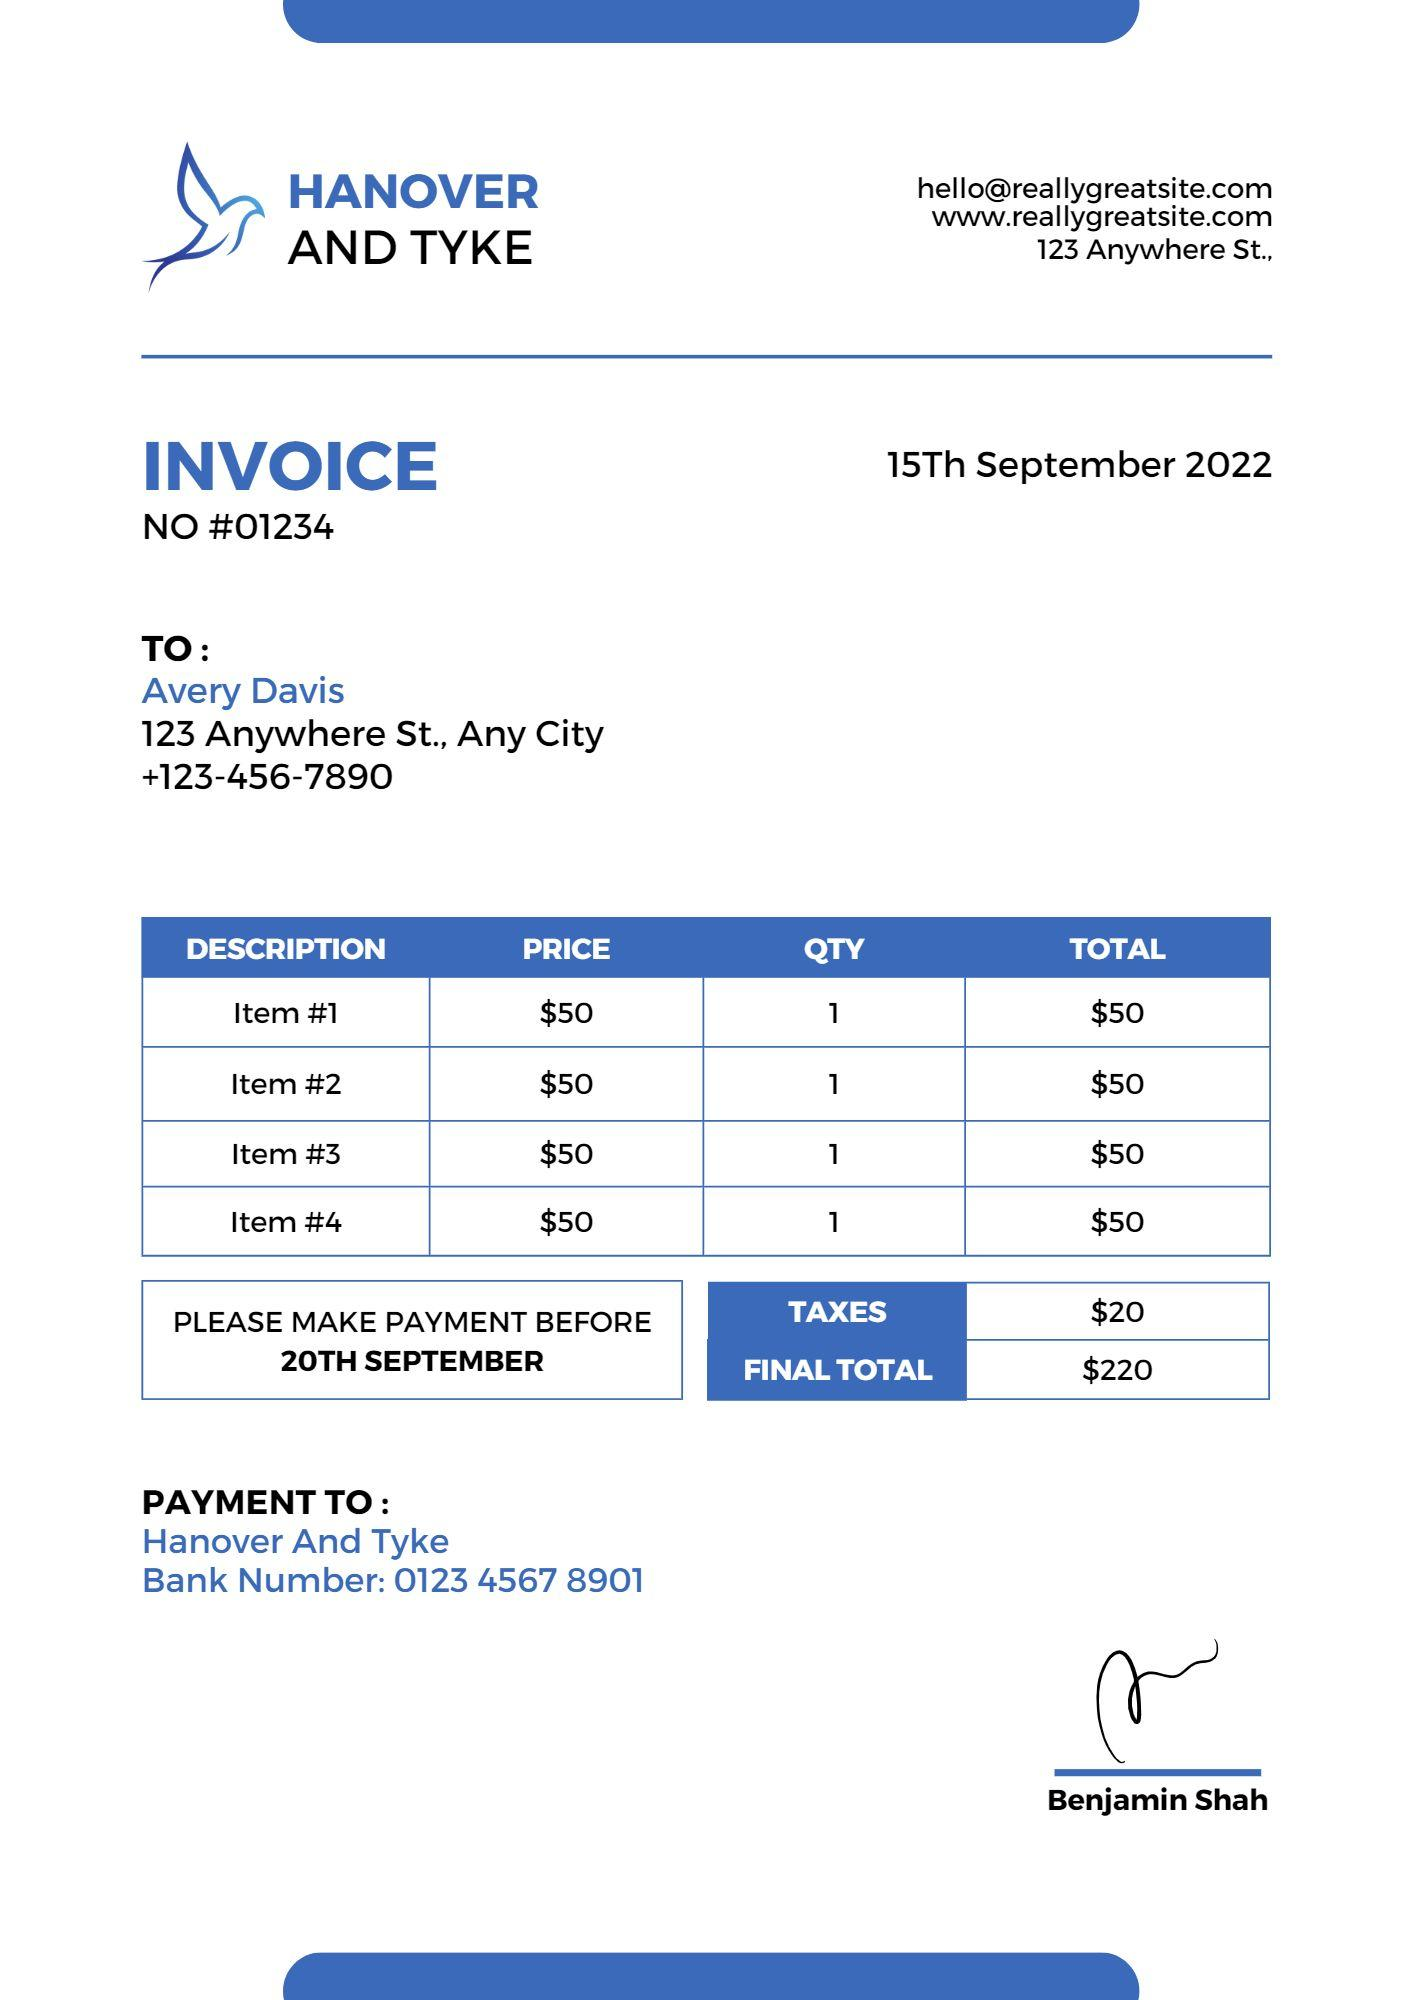ROI: (130, 907, 1278, 1258)
